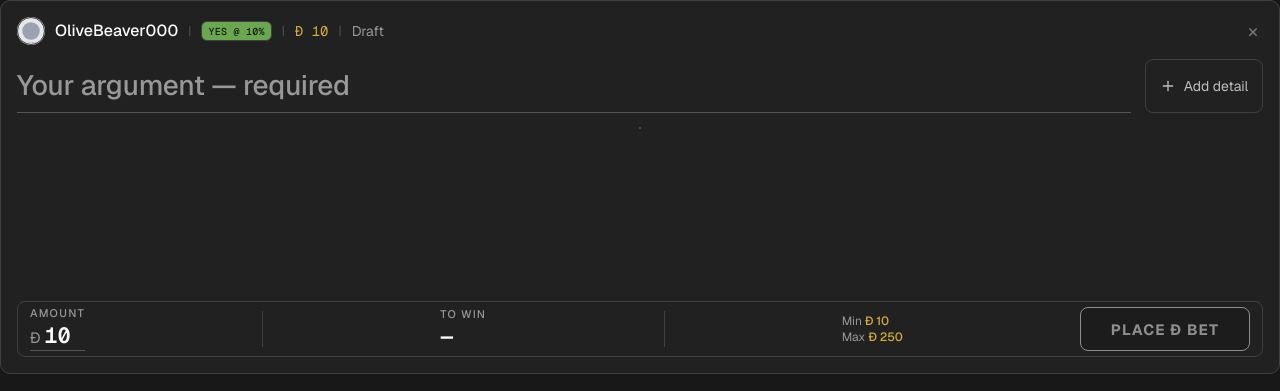
MIRROR-1 RF-3 — the author row › mirror::the-amount-echo-follows-the-input-as-the-card-will-print-it
The width and height of the screenshot is (1280, 391).
Replace the text in the field named "Stake amount" with "25" at (58, 335), box [44,321,71,349]
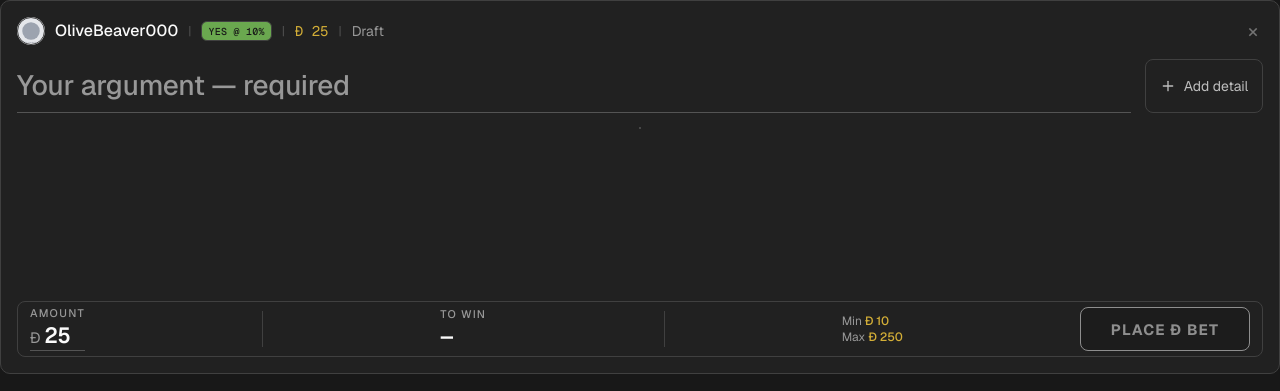
Expected: the text "Đ 25" is shown, [295,21,328,41]
Rounded by the one display formatter, as the posted card will be.
Replace the text in the field named "Stake amount" with "12.5" at (58, 335), box [44,321,71,349]
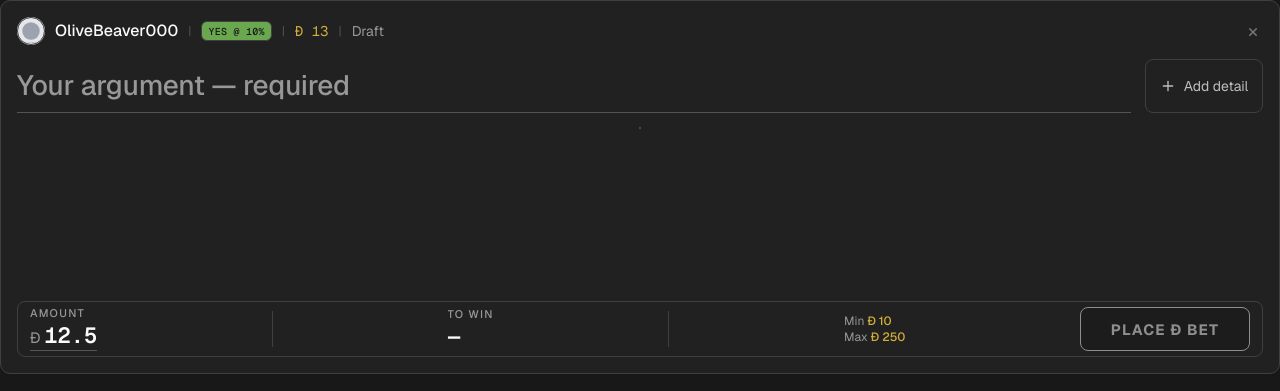
Expected: the text "Đ 13" is shown, [295,21,328,41]
Above what can be spent → the stake that would actually be placed.
Replace the text in the field named "Stake amount" with "500" at (71, 335), box [44,321,97,349]
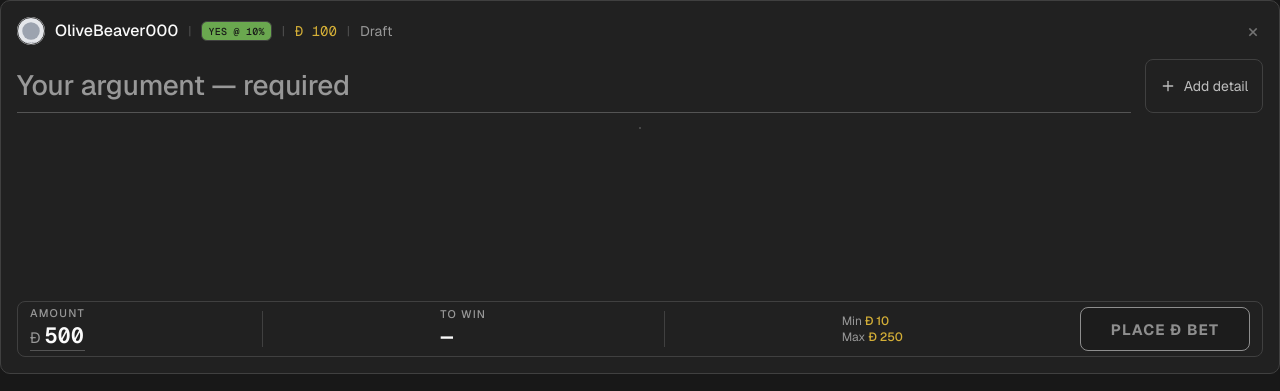
Expected: the text "Đ 100" is shown, [295,21,337,41]
Clear the field named "Stake amount" at (64, 335), box [44,321,84,349]
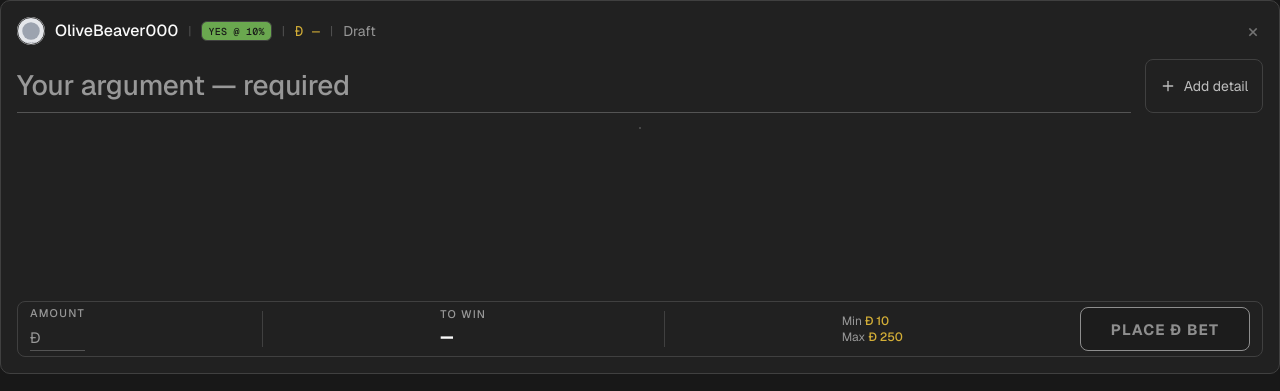
Expected: the text "Đ —" is shown, [295,21,320,41]
